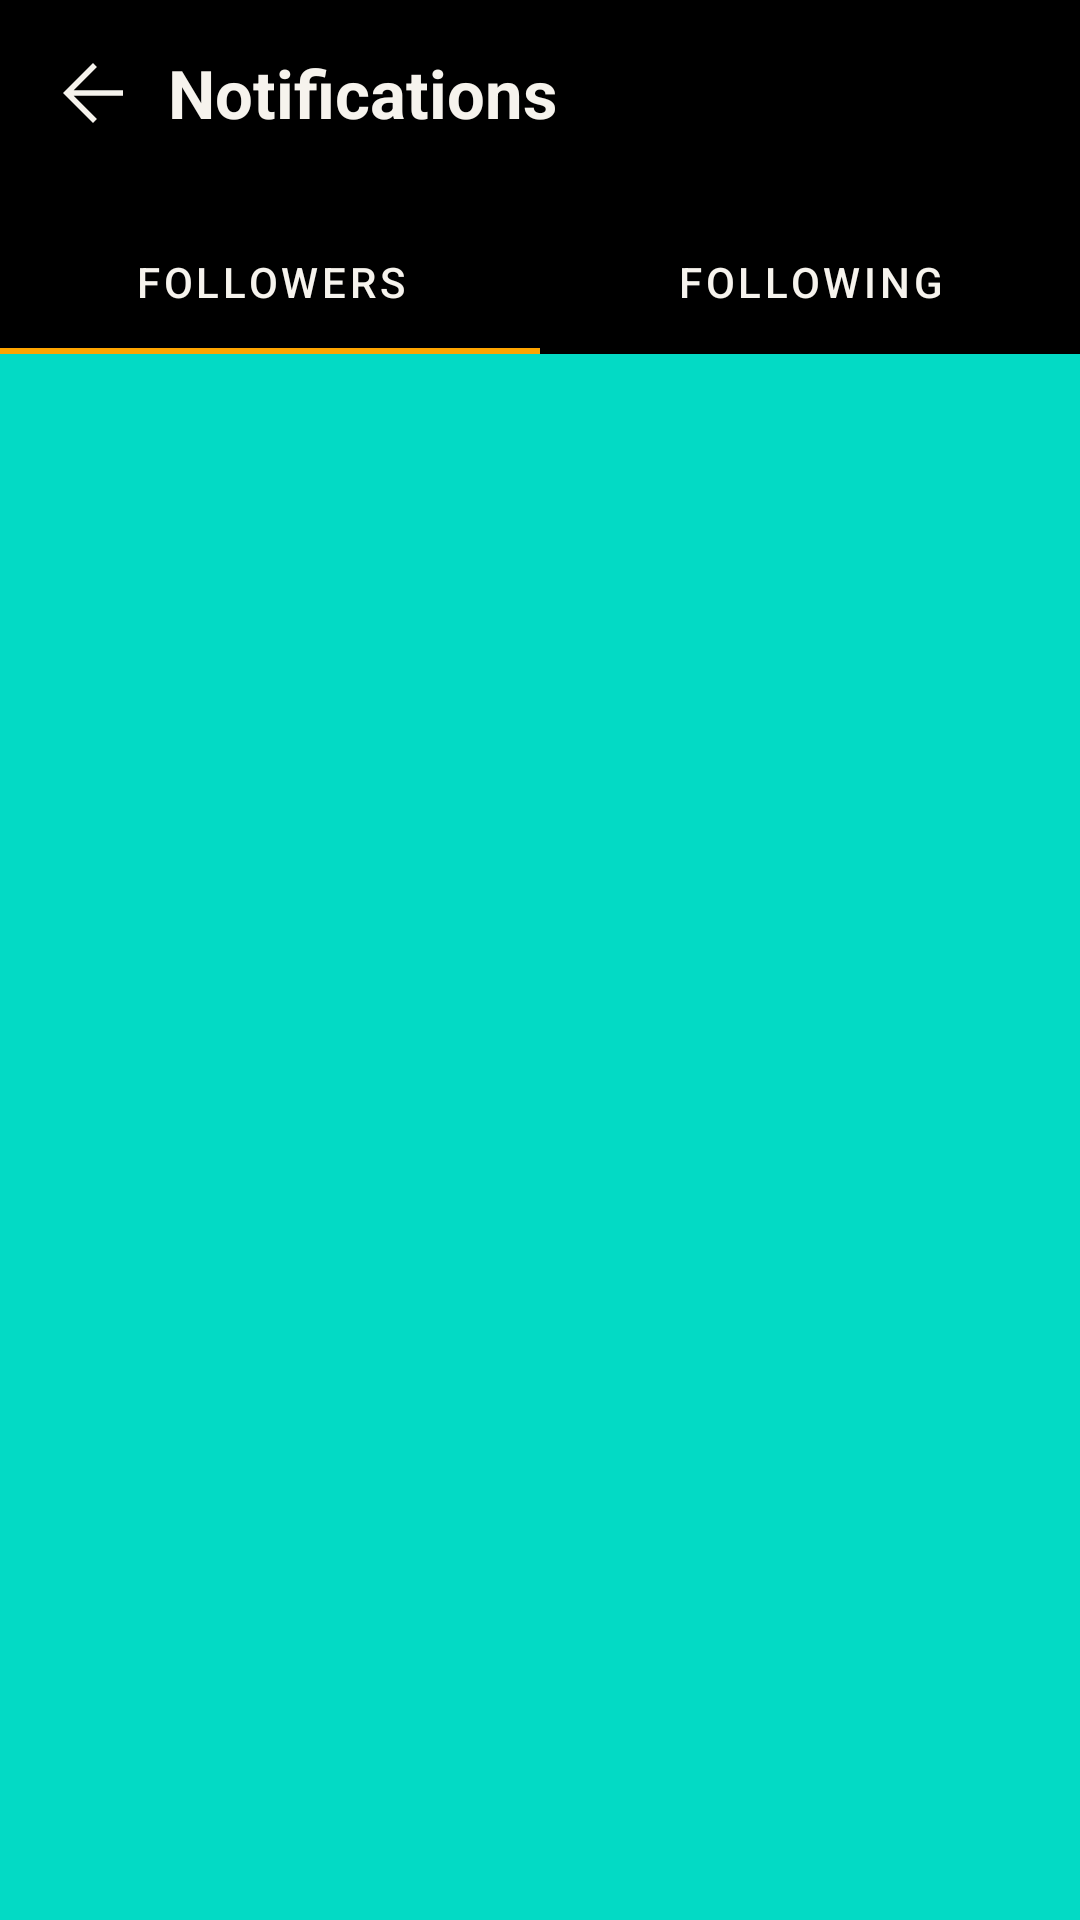

Icons on this 1080w x 1920h Android screen, each with the point to tap as (x=x, y=y):
arrow back: (x=93, y=93)
